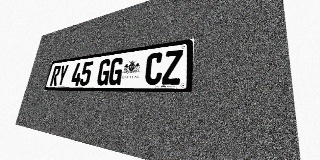4: (70, 62, 84, 86)
5: (79, 61, 93, 86)
C: (144, 52, 164, 85)
G: (107, 57, 124, 85), (96, 59, 112, 85)
R: (49, 65, 61, 86)
Y: (56, 64, 69, 86)
Z: (161, 49, 183, 85)
